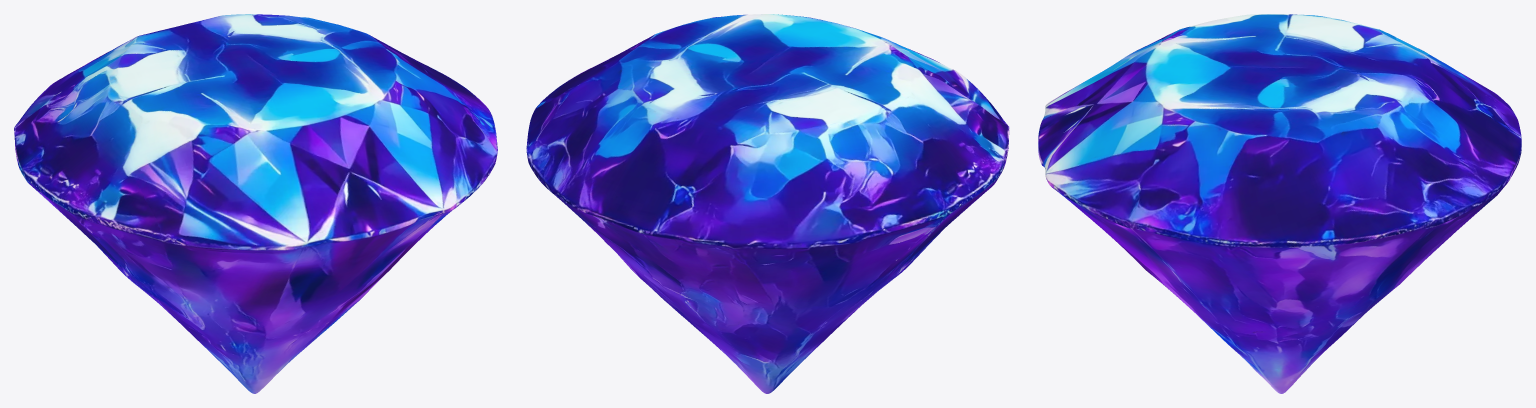
The model's file is diamond.glb.
The picture shows the model from 3 angles, left to right: view 1: azimuth 30°, elevation 25°; view 2: azimuth 150°, elevation 25°; view 3: azimuth 270°, elevation 25°; orthographic projection.
Parts seen in each view (by area): view 1: model; view 2: model; view 3: model.
Boxes of the visible parts, x1,y1,x2,y2 form: model: (14, 14, 497, 393); model: (526, 14, 1009, 393); model: (1038, 14, 1521, 393).
Size of the model in its own units: 1.9 by 1.42 by 1.89.
Materials: 1 (1 with a texture image).
